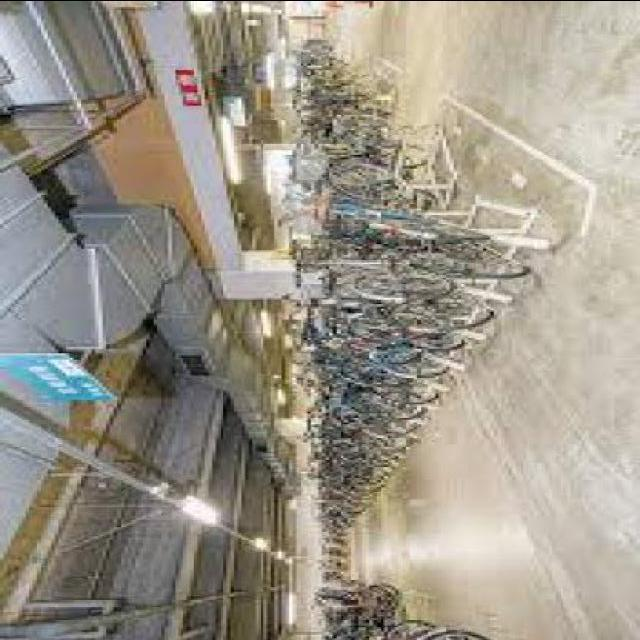bicycle: (349, 220, 531, 284)
